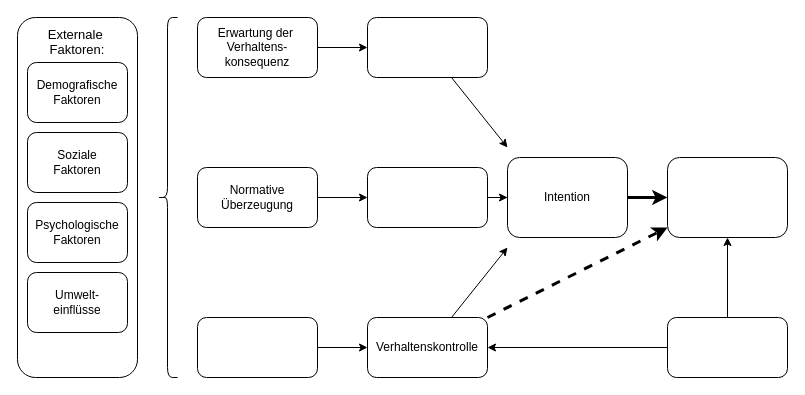
Image size: 805x395. Some labels were removed from this diagram. Each missing label, with the box of its shape:
Einstellung: (366, 16, 488, 78)
Gesundheits-verhalten: (666, 156, 788, 238)
Kontrollüberzeugung: (196, 316, 318, 378)
Subjektive Norm: (366, 166, 488, 228)
Tatsächliche Kontrolle: (666, 316, 788, 378)
